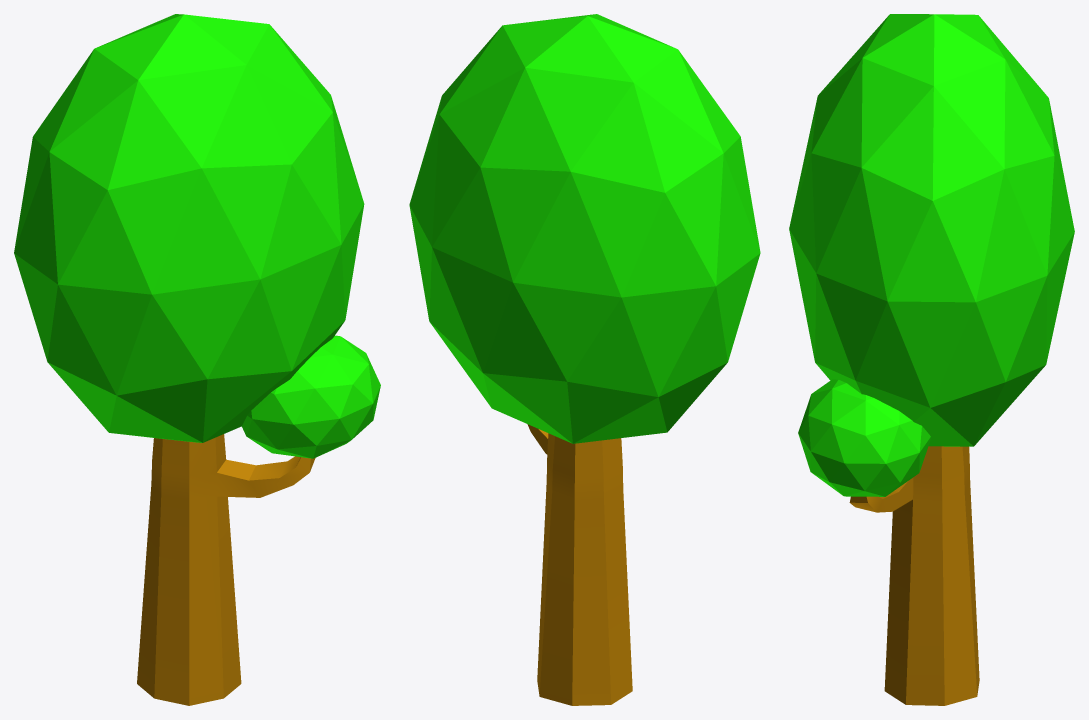
The model's file is Tree_3.fbx.
3 views of the same model, side by side, from view 1: azimuth 30°, elevation 25°; view 2: azimuth 150°, elevation 25°; view 3: azimuth 270°, elevation 25° (orthographic).
Parts seen in each view (by area): view 1: Leaf, Trunk, Leaf2; view 2: Leaf, Trunk; view 3: Leaf, Trunk, Leaf2.
Boxes of the visible parts, box(x1,y1,x2,y2) form: Leaf: box(14, 14, 364, 442); Trunk: box(137, 434, 315, 705); Leaf2: box(242, 335, 380, 458); Leaf: box(409, 14, 760, 443); Trunk: box(527, 424, 632, 705); Leaf: box(789, 14, 1074, 446); Trunk: box(849, 446, 979, 705); Leaf2: box(798, 379, 930, 496).
Size of the model in its own units: 95.13 by 199 by 76.86.
